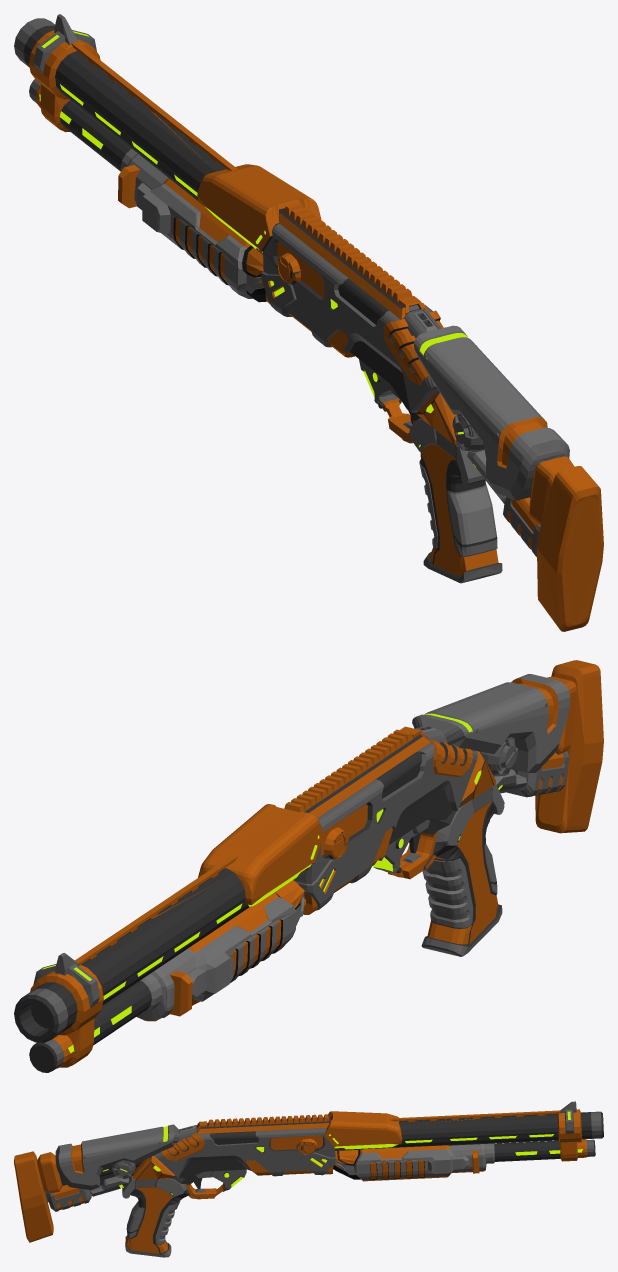
Rendered from levershotgun.glb.
3 renders of one model, top to bottom at view 1: azimuth 30°, elevation 25°; view 2: azimuth 150°, elevation 25°; view 3: azimuth 270°, elevation 25°, orthographic. The views are drawn at different scales.
Visible parts, largest first — view 1: levershotgun.001, levershotgun; view 2: levershotgun.001, levershotgun; view 3: levershotgun.001, levershotgun.
Boxes of the visible parts, x1,y1,x2,y2 form: levershotgun.001: (14,14,603,631); levershotgun: (118,148,266,302); levershotgun.001: (14,660,603,1072); levershotgun: (136,880,306,1021); levershotgun.001: (14,1101,603,1257); levershotgun: (333,1143,494,1181).
Size of the model in its own units: 0.052 by 0.1888 by 0.6777.
